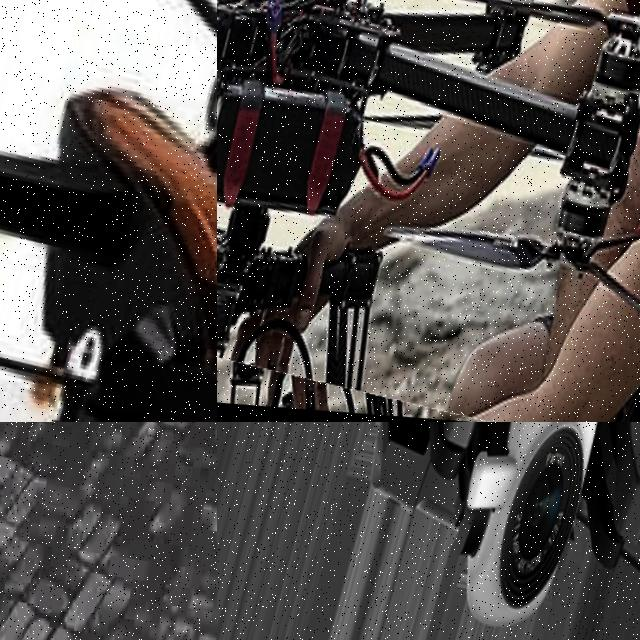drone: (217, 0, 640, 422), (217, 422, 640, 640), (0, 0, 217, 422)
